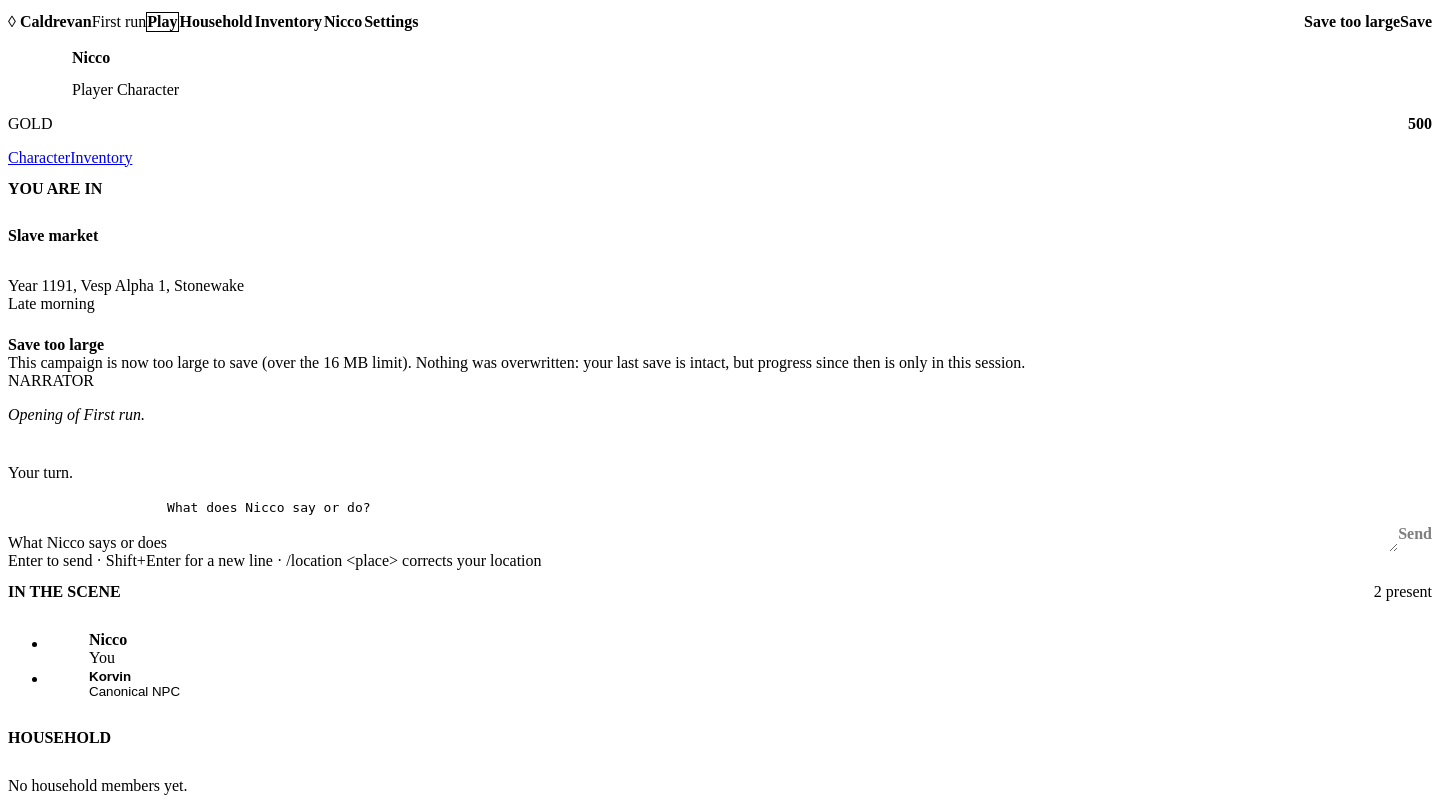
Test: Save control › an oversized save says Save too large with the banner that the last save is intact (never 'damaged' or 'retry'); a normal save later clears it
Click the button "Save" at (1416, 22), box [1400,8,1432,36]
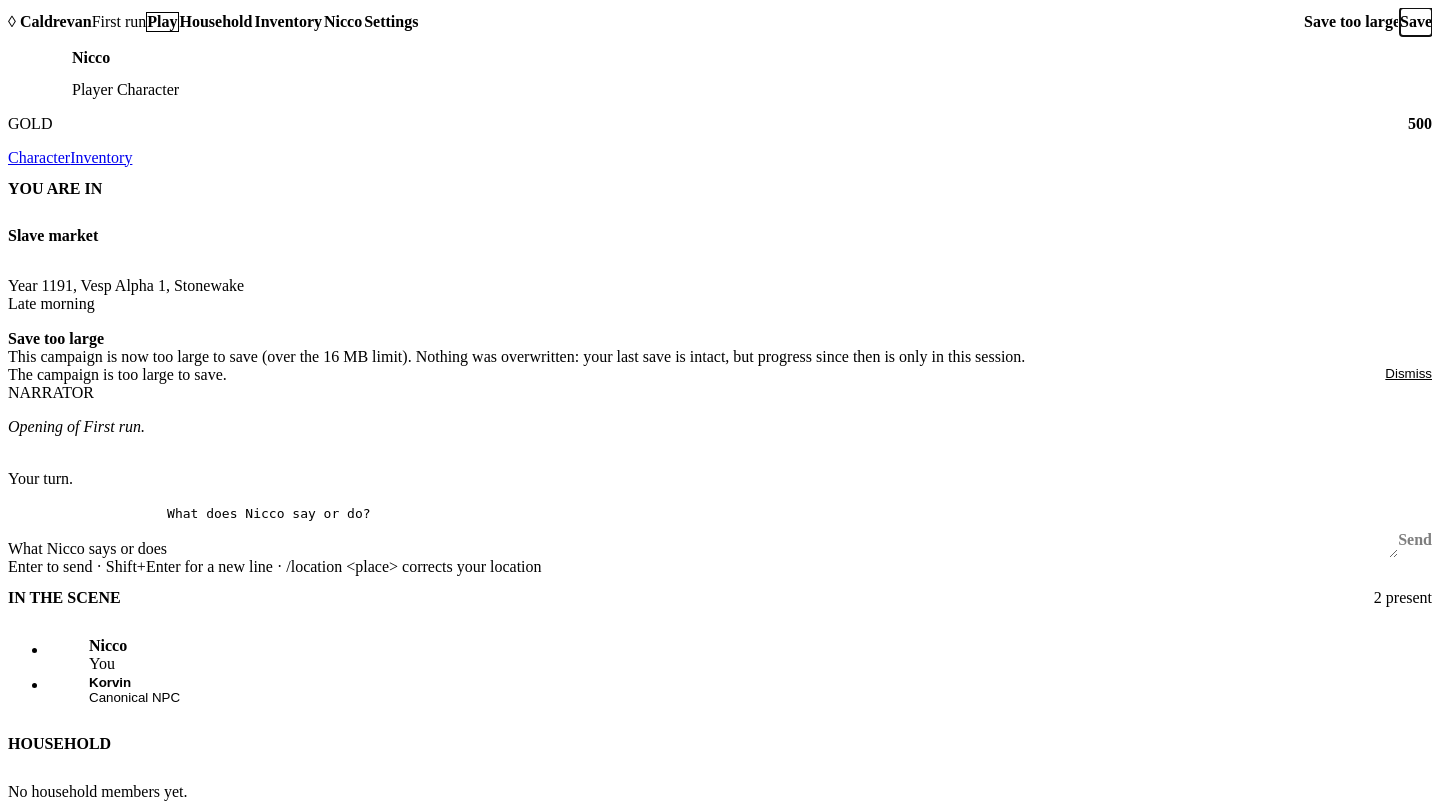
expect the text "Save too large" is shown: met, box [1304,13,1400,31]
expect the text "last save is intact" shows "too large to save": met, box [8,348,1025,365]
Click the button "Save" at (1416, 22), box [1400,8,1432,36]
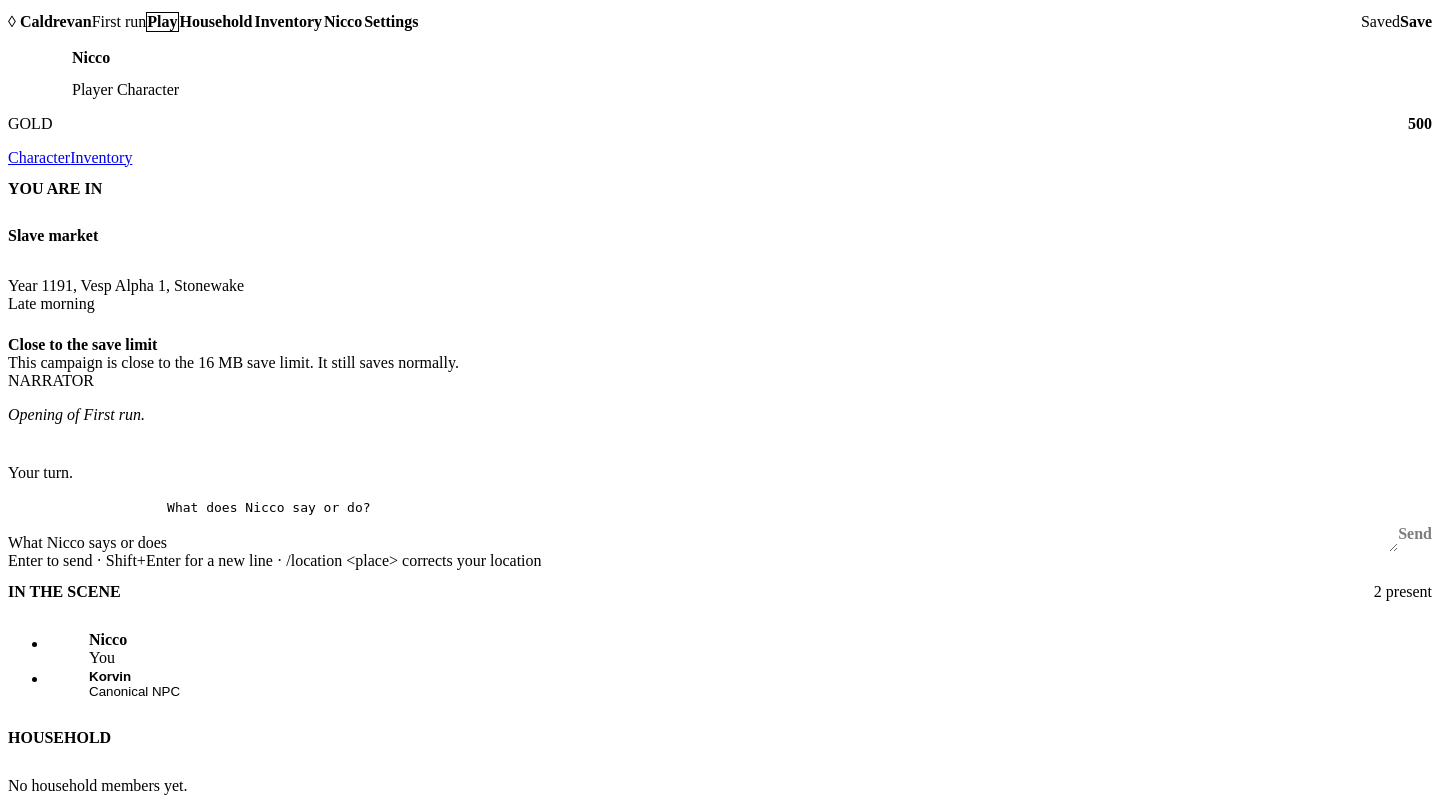
expect the text "close to the 16 MB save limit" is shown: met, box [8,354,459,371]
expect the text "last save is intact" is gone: met
Click the button "Save" at (1416, 22), box [1400,8,1432,36]
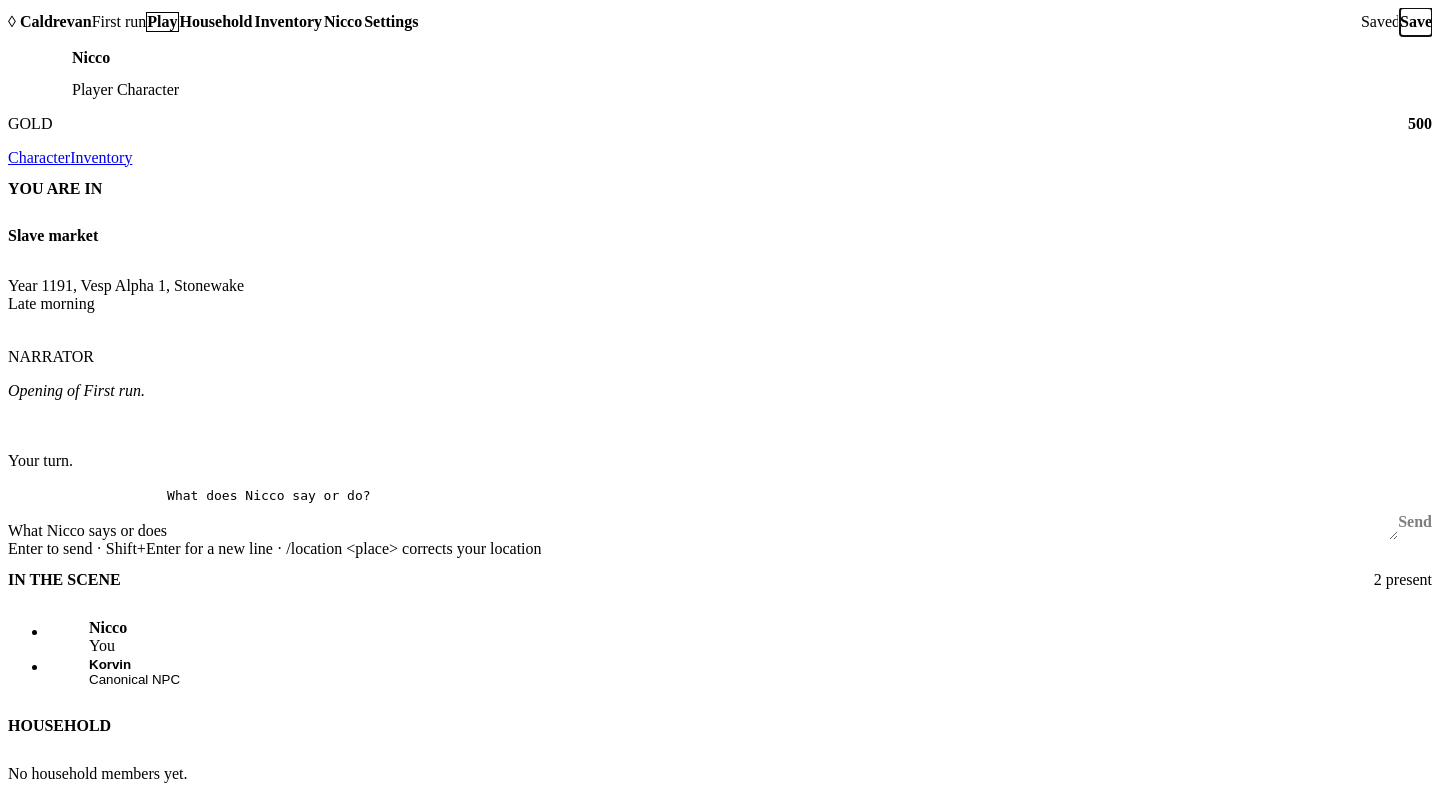
expect the text "Saved" is shown: met, box [1361,13,1400,31]
expect the text "16 MB" is gone: met
